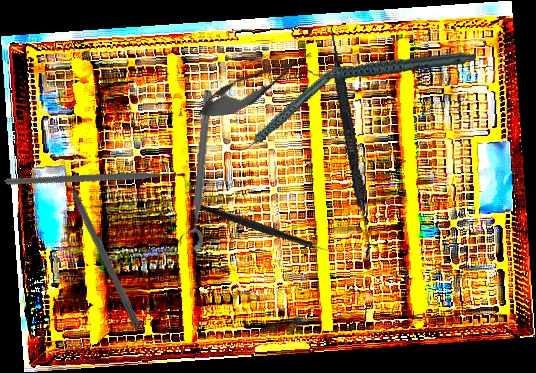Chopper: (4, 96, 191, 271), (194, 159, 339, 294)
Fixation Ring: (176, 88, 217, 253)
Handpiece: (222, 64, 354, 156), (306, 33, 477, 97)
Micro Scissor: (192, 40, 319, 130)
Pusher: (57, 161, 143, 329)
Spatula Surgical: (321, 24, 380, 259)
